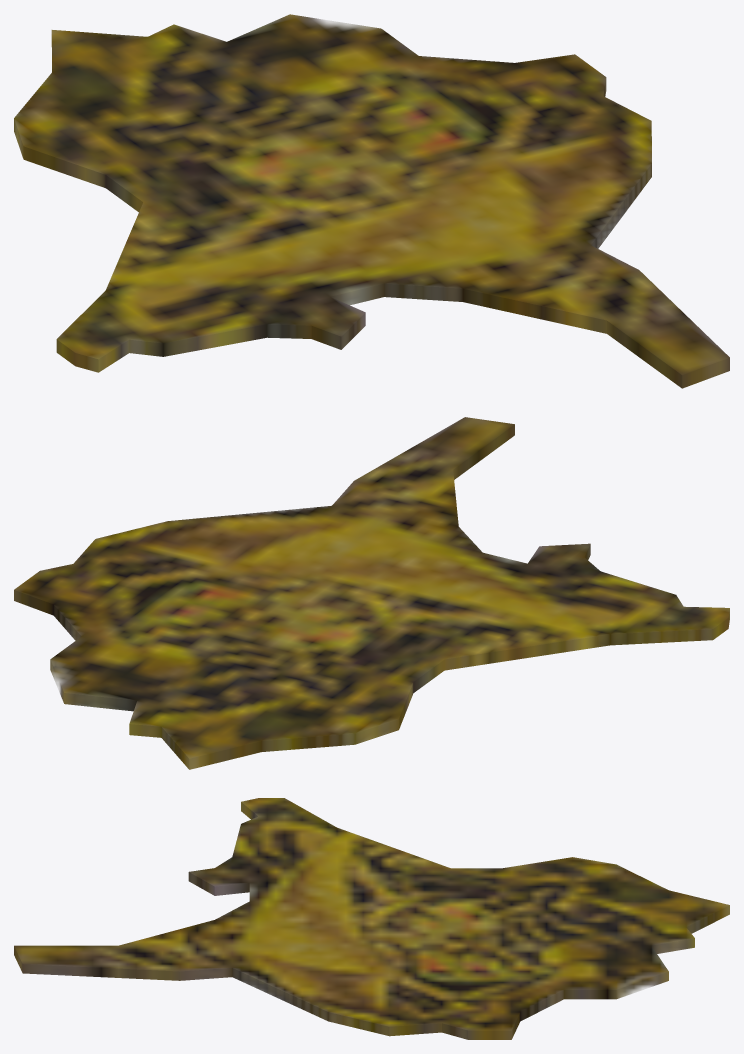
The model's file is RongQuy.glb.
The picture shows the model from 3 angles, top to bottom: view 1: azimuth 30°, elevation 25°; view 2: azimuth 150°, elevation 25°; view 3: azimuth 270°, elevation 25°; orthographic projection. The views are drawn at different scales.
Parts seen in each view (by area): view 1: RongQuy; view 2: RongQuy; view 3: RongQuy.
Boxes of the visible parts, box(x1,y1,x2,y2) form: RongQuy: box(14, 14, 729, 388); RongQuy: box(14, 417, 729, 769); RongQuy: box(14, 798, 729, 1039).
Size of the model in its own units: 0.2656 by 0.005 by 0.3457.
Materials: 1 (1 with a texture image).
